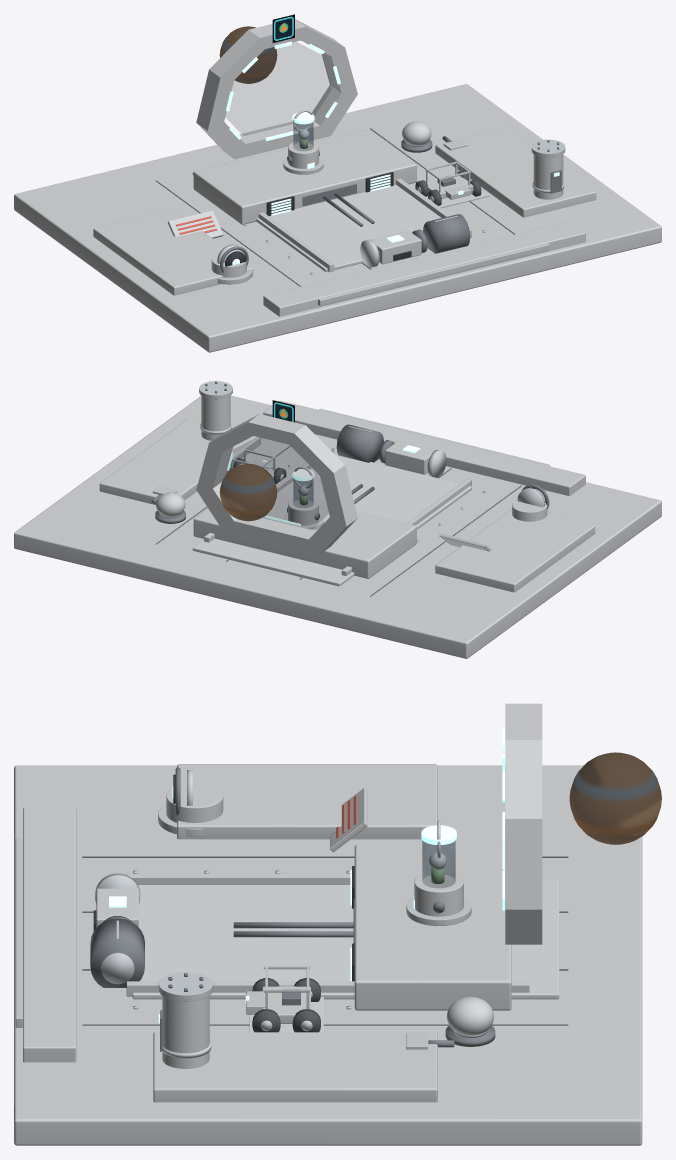
Rendered from lookout_deck.glb.
3 views of the same model, one above another, from view 1: azimuth 30°, elevation 25°; view 2: azimuth 150°, elevation 25°; view 3: azimuth 270°, elevation 25° (orthographic). The views are drawn at different scales.
Visible parts, largest first — view 1: deck_hull, dais, arch_frame, deck_spine, arch_glass, sponson_l, deck_bow, sponson_r, deck_bow_lip, fore_motor, planet, can_body (+10 smaller); view 2: deck_hull, arch_frame, deck_spine, sponson_l, dais, deck_bow, sponson_r, arch_glass, planet, fore_motor, fore_core, can_body (+8 smaller); view 3: deck_hull, deck_spine, dais, sponson_r, sponson_l, deck_bow, arch_frame, planet, can_body, deck_rail_-2.15, fore_motor, pod_base (+13 smaller).
Part boxes in pixels (bbox=[...]): deck_hull: bbox=[14, 84, 661, 352]; dais: bbox=[193, 129, 416, 224]; arch_frame: bbox=[196, 19, 357, 159]; deck_spine: bbox=[192, 172, 441, 271]; arch_glass: bbox=[226, 42, 331, 135]; sponson_l: bbox=[93, 209, 253, 295]; deck_bow: bbox=[263, 221, 585, 316]; sponson_r: bbox=[435, 127, 596, 217]; deck_bow_lip: bbox=[318, 243, 549, 306]; fore_motor: bbox=[423, 214, 470, 253]; planet: bbox=[219, 26, 277, 83]; can_body: bbox=[533, 154, 563, 199]; deck_hull: bbox=[14, 395, 661, 658]; arch_frame: bbox=[196, 414, 357, 554]; deck_spine: bbox=[192, 452, 471, 586]; sponson_l: bbox=[435, 509, 595, 592]; dais: bbox=[193, 492, 416, 578]; deck_bow: bbox=[263, 400, 585, 495]; sponson_r: bbox=[99, 419, 260, 504]; arch_glass: bbox=[227, 437, 328, 529]; planet: bbox=[219, 463, 277, 521]; fore_motor: bbox=[336, 424, 383, 462]; fore_core: bbox=[385, 441, 435, 474]; can_body: bbox=[201, 396, 230, 440]; deck_hull: bbox=[14, 765, 642, 1145]; deck_spine: bbox=[132, 879, 559, 999]; dais: bbox=[354, 844, 511, 1010]; sponson_r: bbox=[153, 1032, 437, 1102]; sponson_l: bbox=[177, 764, 437, 839]; deck_bow: bbox=[23, 807, 76, 1062]; arch_frame: bbox=[505, 703, 542, 944]; planet: bbox=[569, 752, 661, 844]; can_body: bbox=[162, 996, 209, 1068]; deck_rail_-2.15: bbox=[126, 873, 350, 884]; fore_motor: bbox=[90, 918, 144, 987]; pod_base: bbox=[414, 871, 463, 916].
Size of what is drawn, in the model's own units: 14.2 by 5.08 by 10.93.
Materials: 13 (2 with a texture image).
